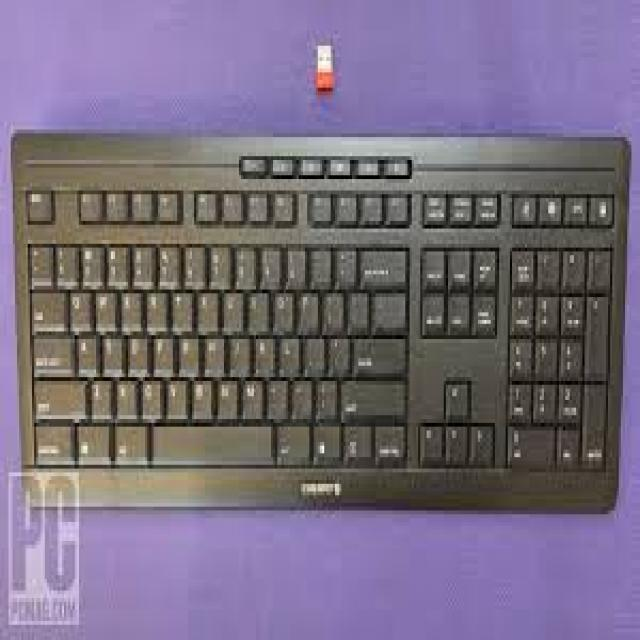others: (6, 103, 632, 522)
